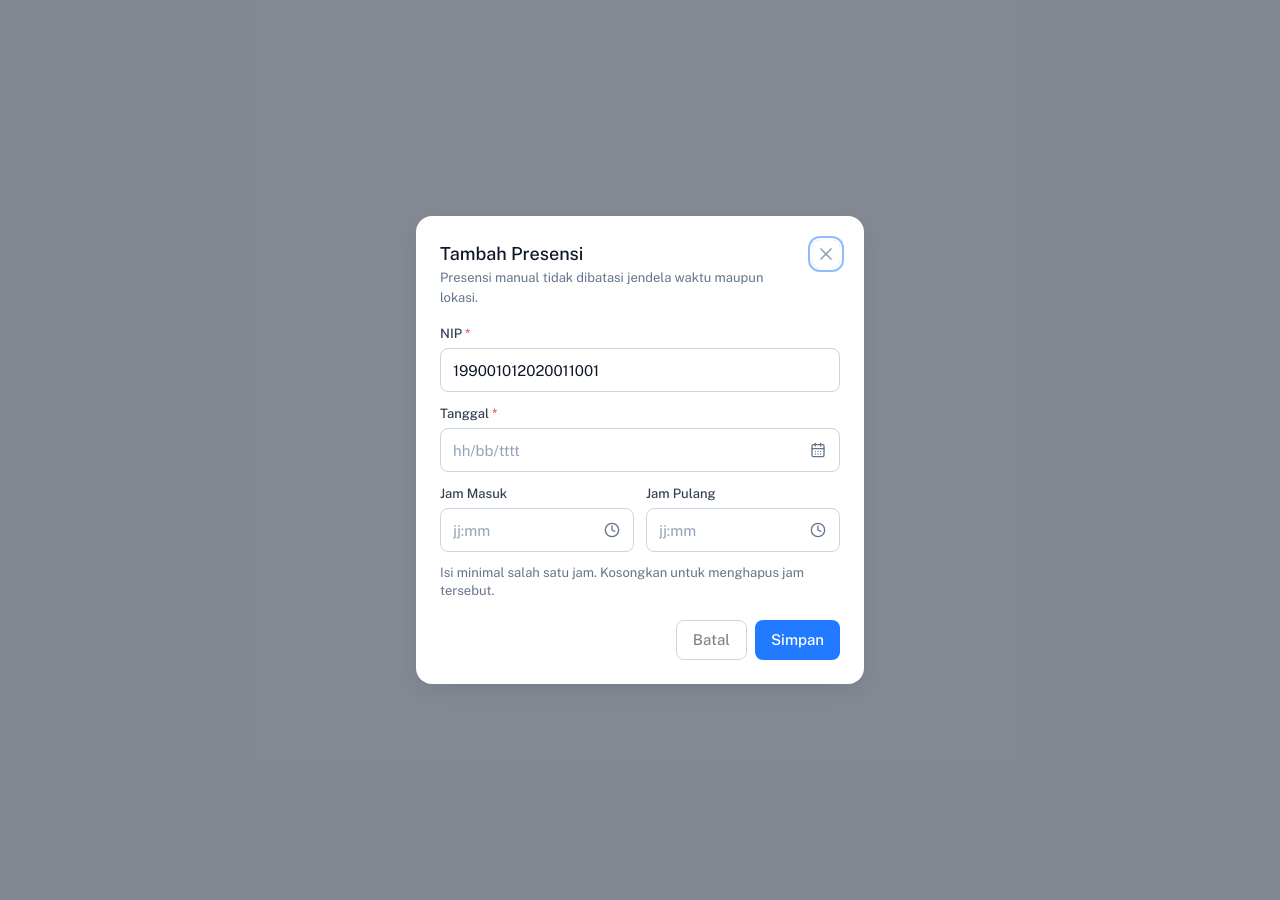
Test case: PresensiManualDialog › Tambah: nip dari detail pegawai, 422 per kolom ditampilkan tanpa menutup dialog
Step 1. Click the button "Simpan" → click(797, 640), box 755,620 -> 840,660
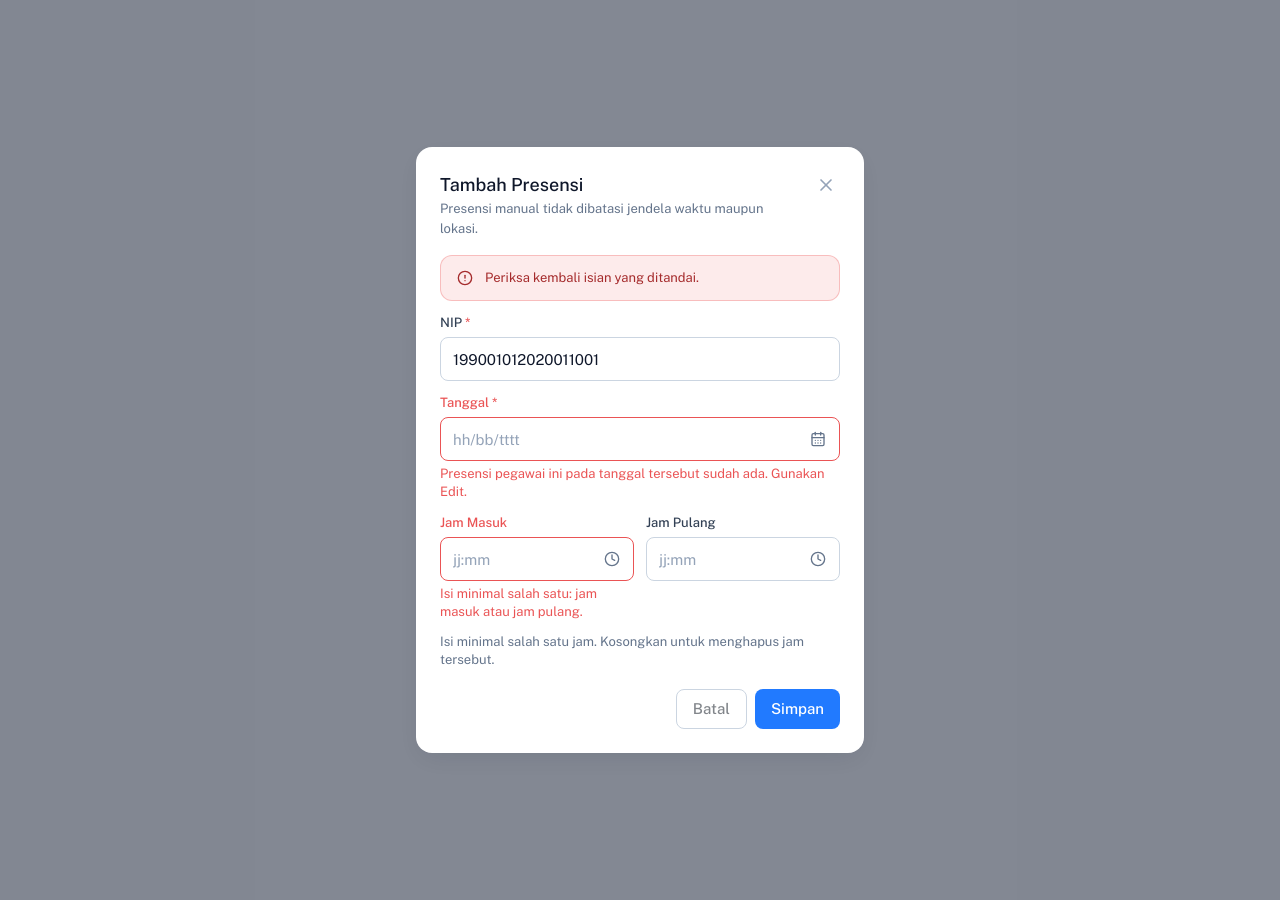
Expected: the text "Isi minimal salah satu" is shown, 440,586 -> 597,619
Expected: the text "sudah ada. Gunakan Edit." is shown, 440,466 -> 825,499
